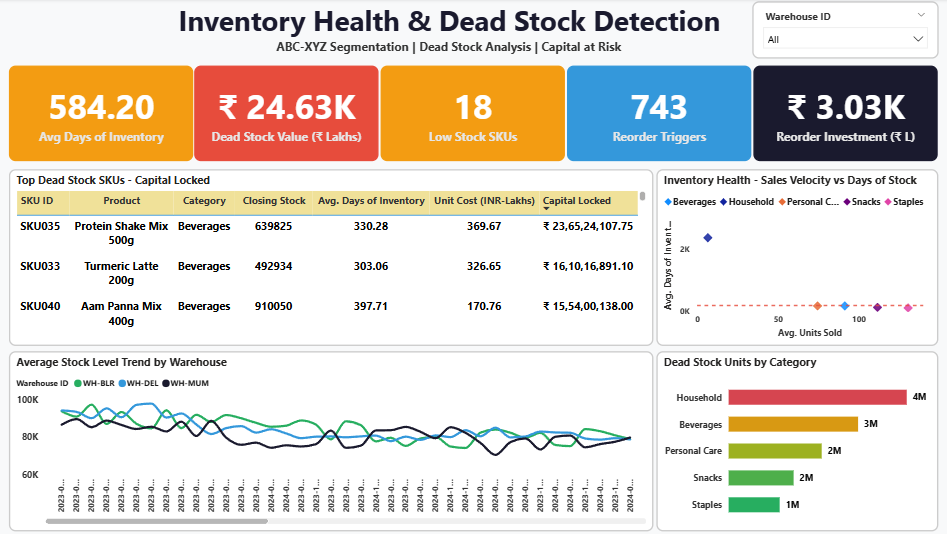

The dashboard page shown, as its layout file describes it:
{"tool":"powerbi","page":{"name":"Inventory Health","canvas":[1280,720],"ordinal":2},"visuals":[{"type":"textbox","box":[236.1,0,739.7,81.3],"z":0},{"type":"card","fields":{"Values":["_Measures.Avg Days of Inventory"]},"box":[14.1,90.7,248,128.2],"z":1000},{"type":"card","fields":{"Values":["_Measures.Total Reorder Events"]},"box":[764.7,90.7,248,128.2],"z":2000},{"type":"card","fields":{"Values":["_Measures.Total Dead Stock Value"]},"box":[264.3,90.7,248,128],"z":3000},{"type":"card","fields":{"Values":["_Measures.Low Stock SKUs"]},"box":[514.5,90.7,248,128.2],"z":4000},{"type":"tableEx","title":"Top Dead Stock SKUs - Capital Locked","fields":{"Values":["products.sku_id","products.product_name","products.category","Sum(inventory_snapshots.closing_stock)","Avg(inventory_snapshots.days_of_inventory)","Sum(products.unit_cost_inr)","Sum(inventory_snapshots.Capital Locked)"]},"box":[14.1,229.9,866,237.7],"z":5000},{"type":"scatterChart","title":"Inventory Health - Sales Velocity vs Days of Stock","fields":{"X":["Avg(inventory_snapshots.units_sold)"],"Y":["Avg(inventory_snapshots.days_of_inventory)"],"Series":["products.category"]},"box":[885.1,229.9,378.5,237.7],"z":6000},{"type":"lineChart","title":"Average Stock Level Trend by Warehouse","fields":{"Category":["inventory_snapshots.snapshot_date"],"Y":["Sum(inventory_snapshots.closing_stock)"],"Series":["inventory_snapshots.warehouse_id"]},"box":[14.1,473.9,866.4,242.4],"z":7000},{"type":"clusteredBarChart","title":"Dead Stock Units by Category","fields":{"Y":["Sum(inventory_snapshots.closing_stock)"],"Category":["products.category"]},"box":[885.1,473.9,378.5,242.4],"z":8000},{"type":"card","fields":{"Values":["_Measures.Reorder Investment"]},"box":[1014.9,90.7,248,128.2],"z":9000},{"type":"slicer","fields":{"Values":["inventory_snapshots.warehouse_id"]},"box":[1013.4,4.7,250.2,76.6],"z":10000}]}

Visuals, with their boxes in screenshot pixels (x1, y1, x2, y2), scaled from the page's 1280x720 canvas onto the 947x534 screenshot:
textbox: select_region(175, 0, 722, 60)
card - _Measures.Avg Days of Inventory: select_region(10, 67, 194, 162)
card - _Measures.Total Reorder Events: select_region(566, 67, 749, 162)
card - _Measures.Total Dead Stock Value: select_region(196, 67, 379, 162)
card - _Measures.Low Stock SKUs: select_region(381, 67, 564, 162)
"Top Dead Stock SKUs - Capital Locked" tableEx: select_region(10, 171, 651, 347)
"Inventory Health - Sales Velocity vs Days of Stock" scatterChart: select_region(655, 171, 935, 347)
"Average Stock Level Trend by Warehouse" lineChart: select_region(10, 351, 651, 531)
"Dead Stock Units by Category" clusteredBarChart: select_region(655, 351, 935, 531)
card - _Measures.Reorder Investment: select_region(751, 67, 934, 162)
slicer - inventory_snapshots.warehouse_id: select_region(750, 3, 935, 60)
